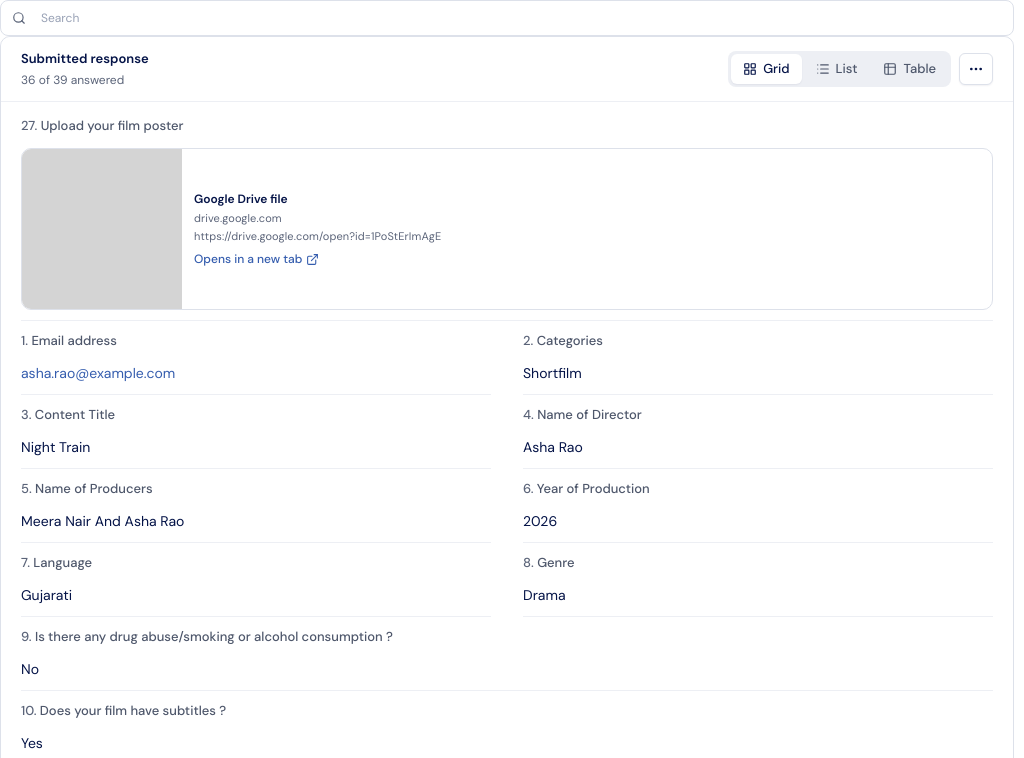
Test: options › "Show empty answers" off hides the unanswered rows and says how many are hidden
The image size is (1024, 758).
Click the button named "View options". click: (976, 69)
box: [959, 53, 993, 85]
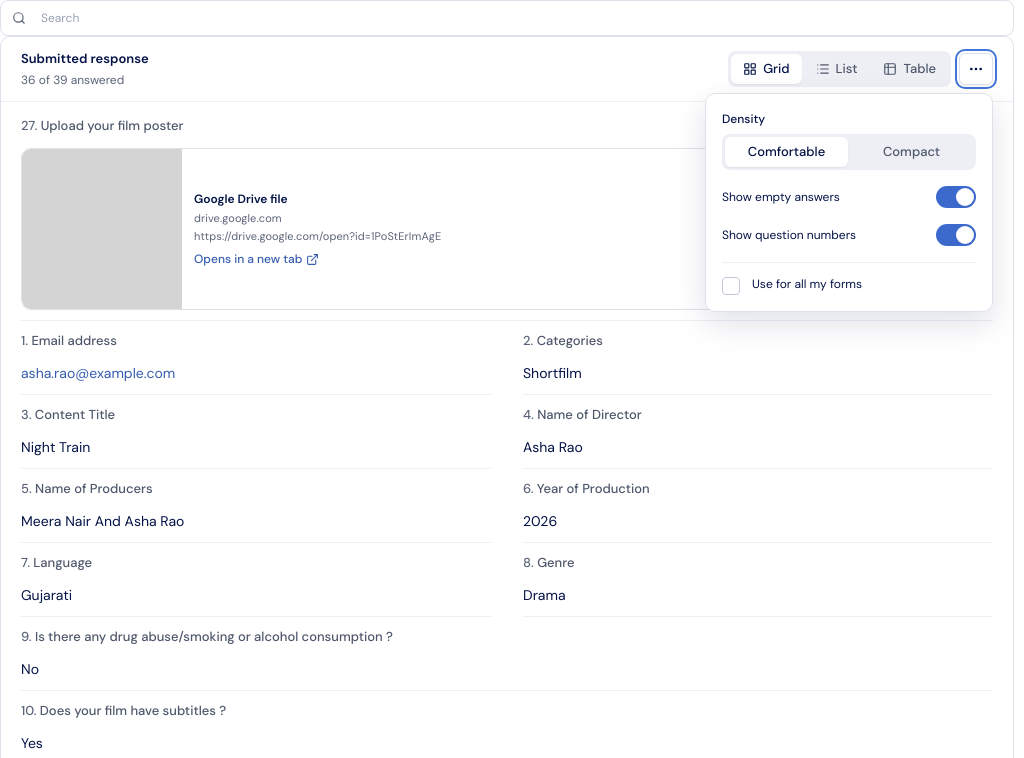
Click the switch labelled "Show empty answers". click: (956, 197)
box: [936, 186, 976, 208]
(page scrolled)
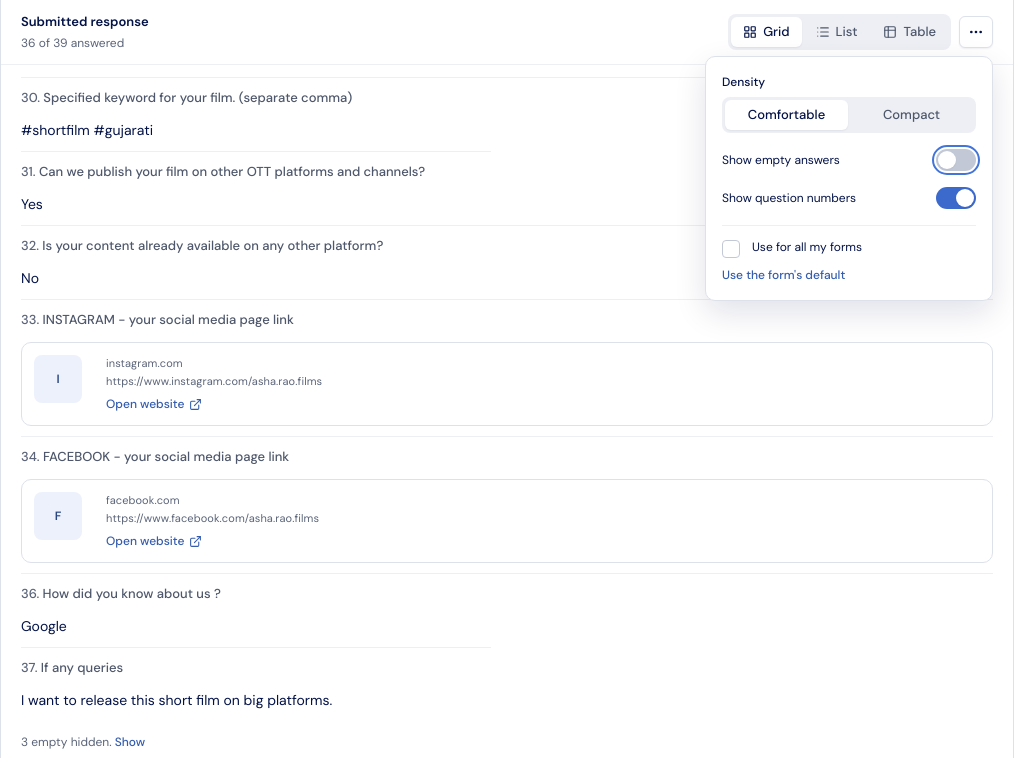
Expected: the text "—" is not shown
Click the button "Show". click: (130, 742)
box: [115, 733, 145, 751]
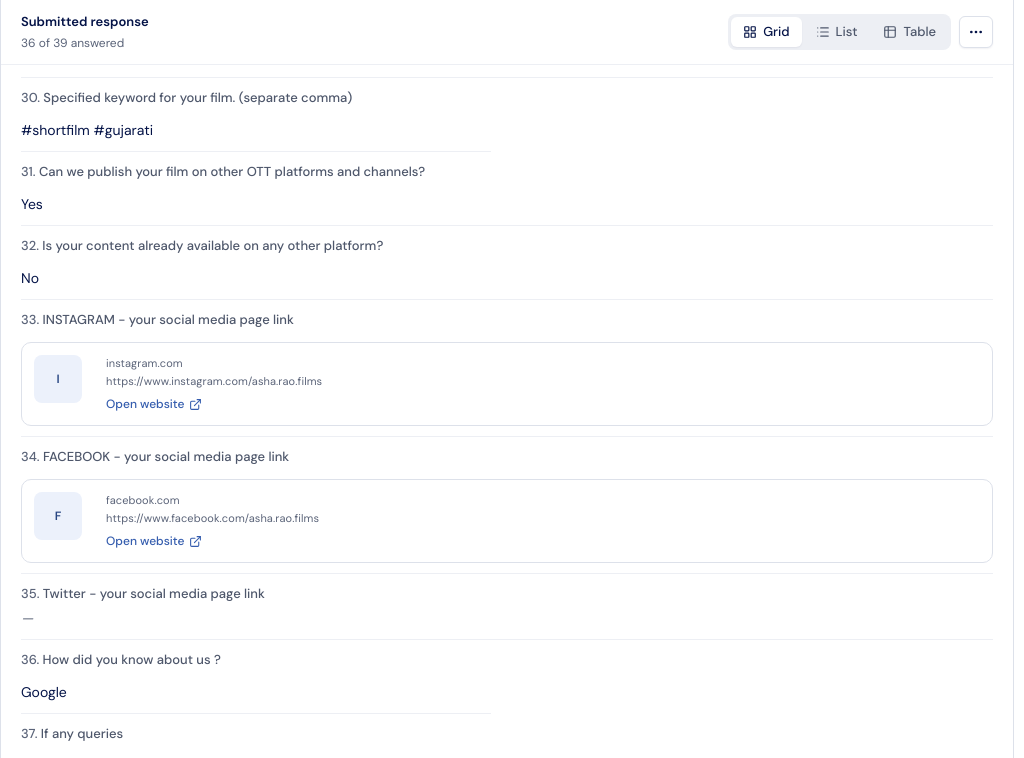
Expected: the text "empty hidden" is gone
